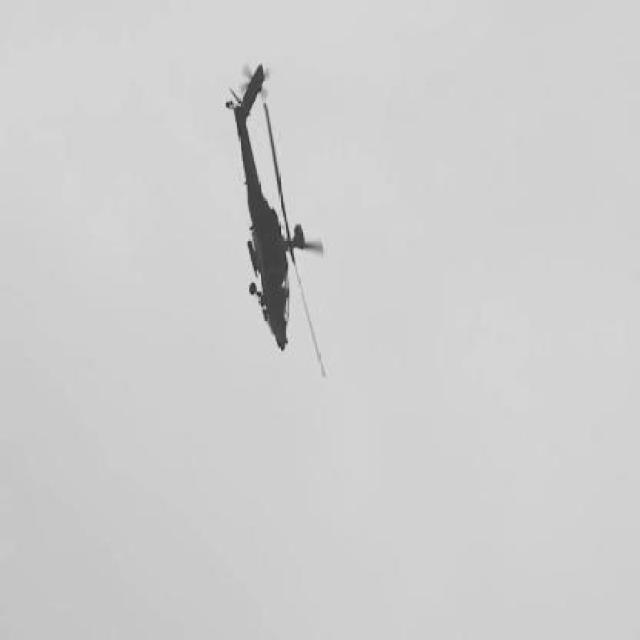Helicopter: (226, 63, 328, 379)
